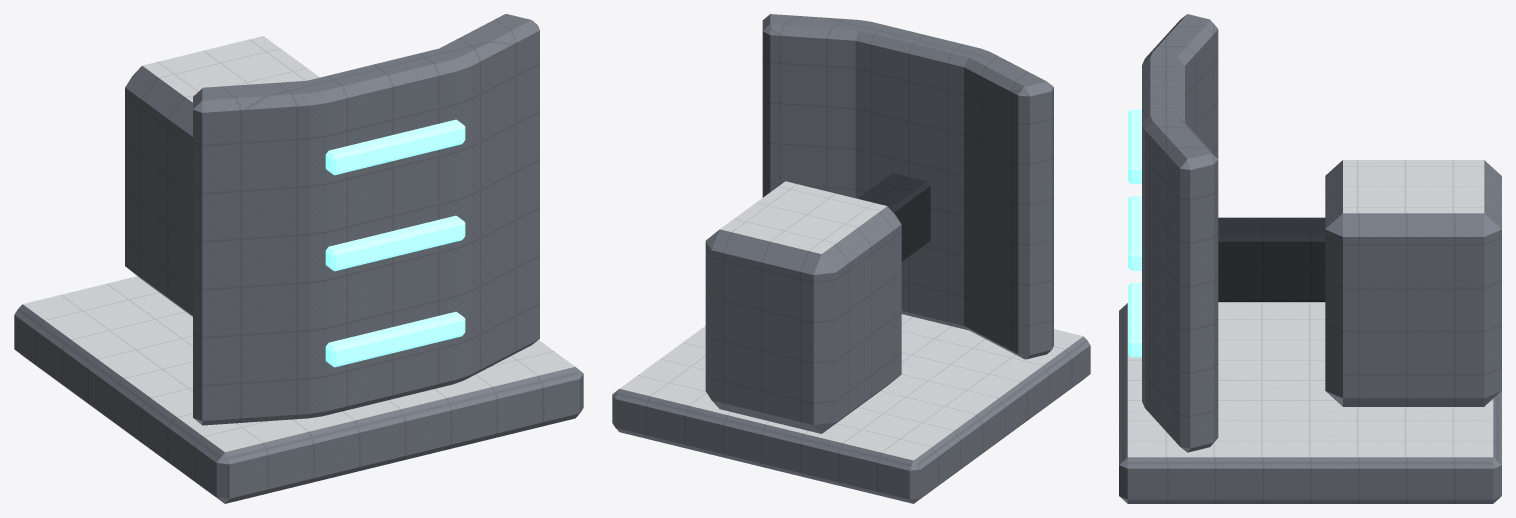
Rendered from R4X_DirectionalShield_LOD1.glb.
3 views of the same model, side by side, from view 1: azimuth 30°, elevation 25°; view 2: azimuth 150°, elevation 25°; view 3: azimuth 270°, elevation 25° (orthographic). The views are drawn at different scales.
Visible parts, largest first — view 1: R4X_DirectionalShield_LOD1; view 2: R4X_DirectionalShield_LOD1; view 3: R4X_DirectionalShield_LOD1.
Boxes of the visible parts, x1,y1,x2,y2 form: R4X_DirectionalShield_LOD1: (14,14,583,503); R4X_DirectionalShield_LOD1: (612,14,1090,503); R4X_DirectionalShield_LOD1: (1119,14,1501,503).
Bounding box in the file's own units: 0.52 × 0.51 × 0.52.
Materials: 4 (3 with a texture image).
